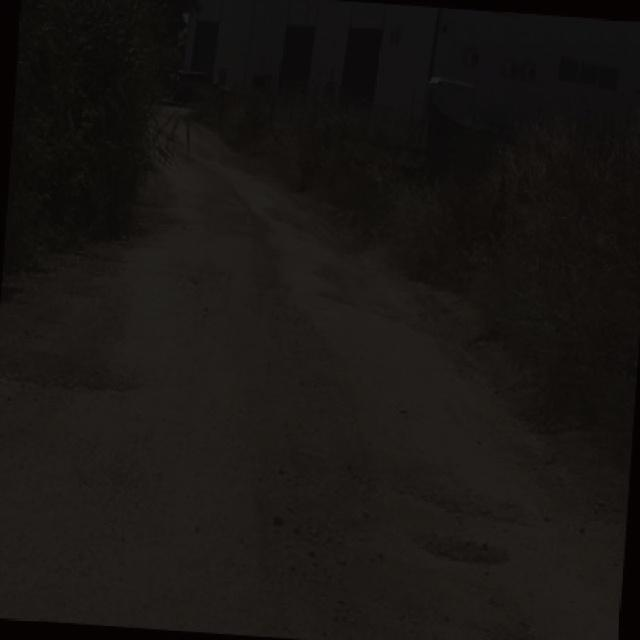Pothole: (2, 353, 157, 392), (417, 530, 513, 572)
